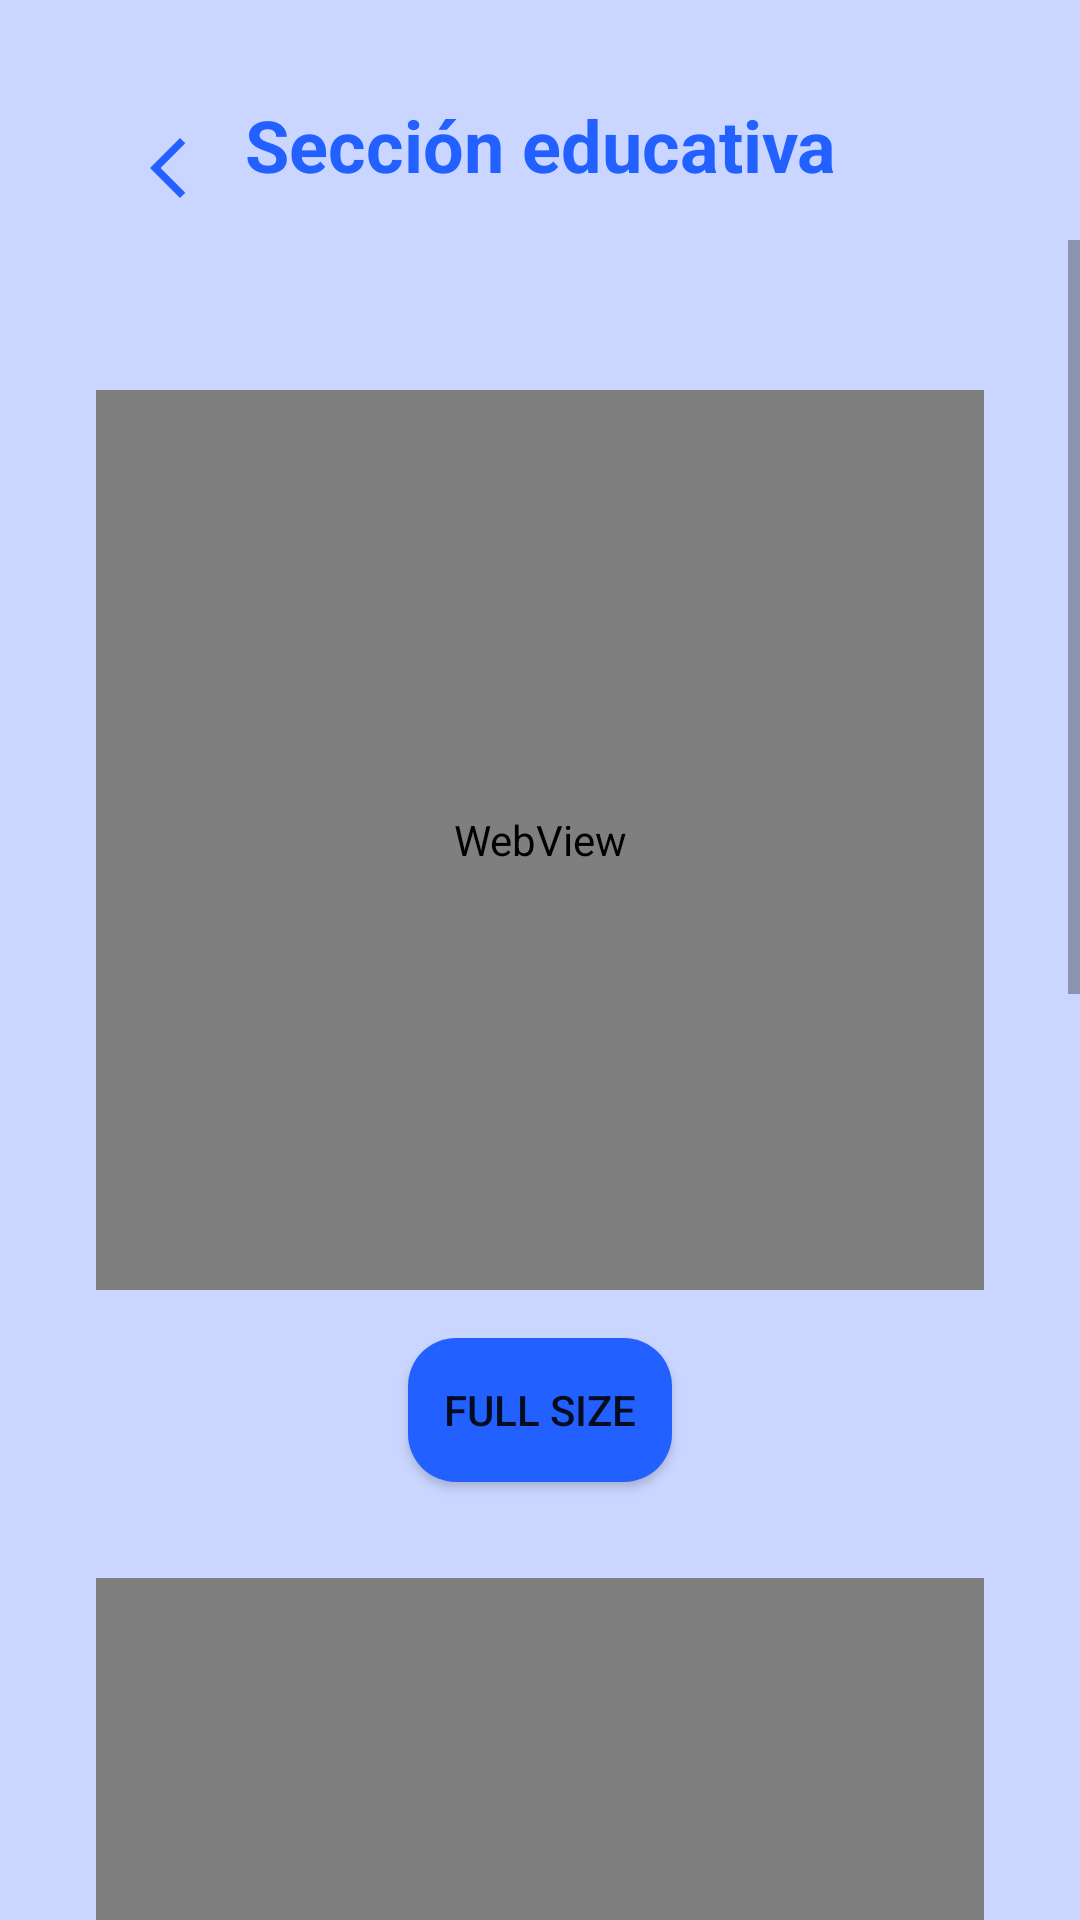

Where icons sit on this 1080×1920 app screen, as bbox(x1, y1, x2, y2):
back button: bbox(150, 138, 185, 198)
